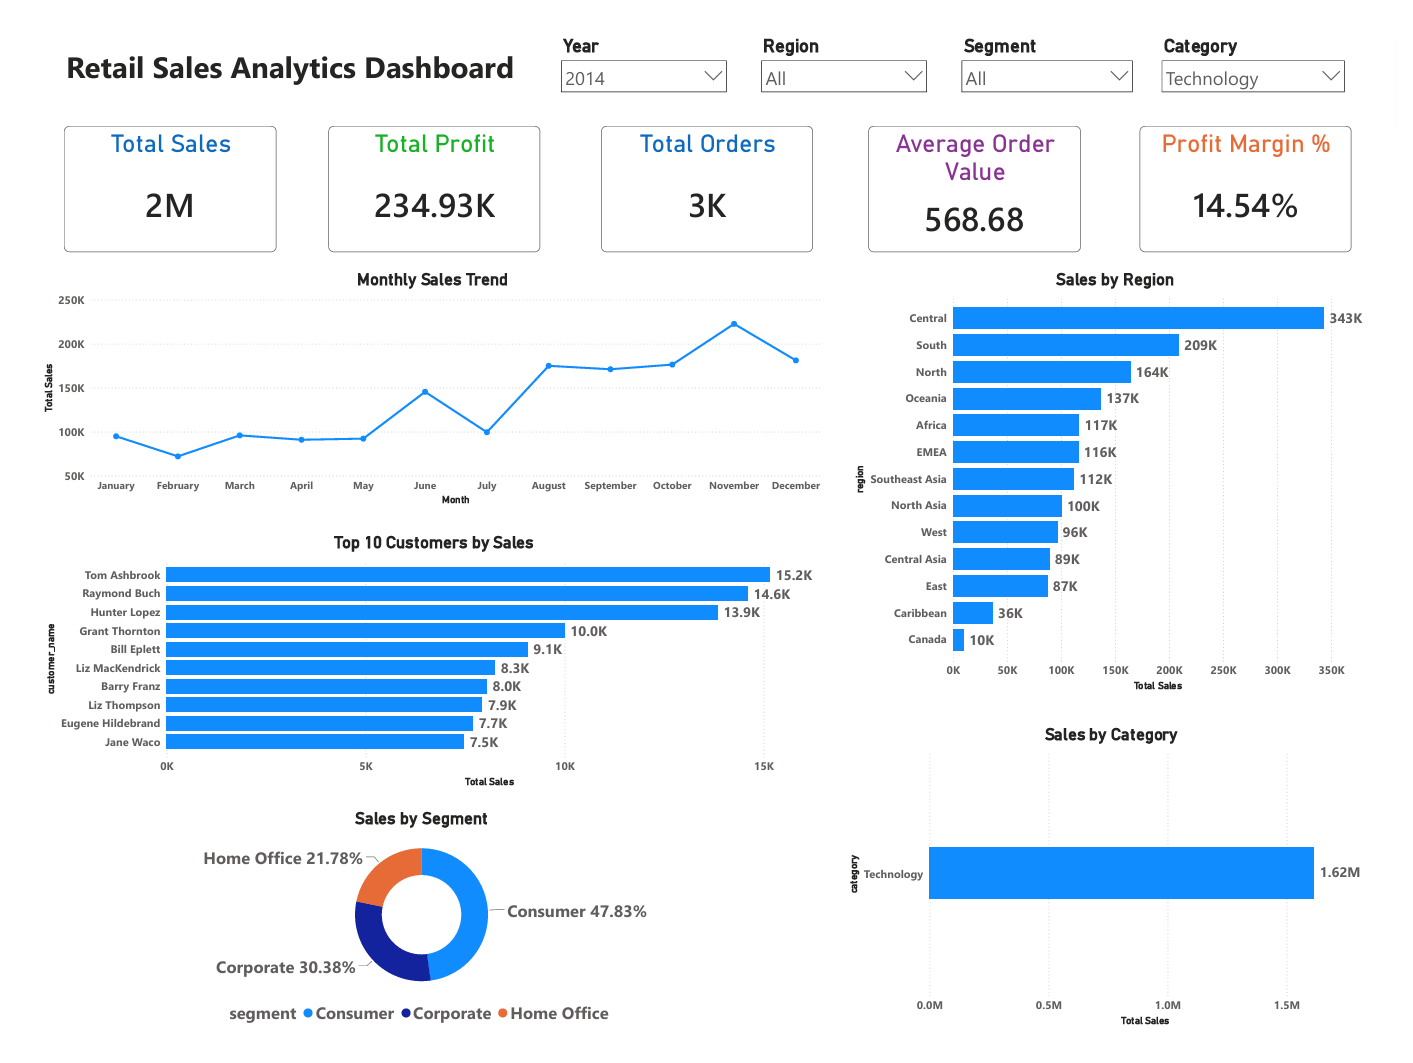

The page's visual inventory and layout, read from the dashboard file:
{"tool":"powerbi","page":{"name":"Page 1","canvas":[2000,1500],"ordinal":0},"visuals":[{"type":"cardVisual","title":"Total Sales","fields":{"Data":["superstore_cleaned.Total Sales"]},"box":[70,160,307.7,182.7],"z":0},{"type":"cardVisual","title":"Total Profit","fields":{"Data":["superstore_cleaned.Total Profit"]},"box":[452.5,160,307.7,182.7],"z":1000},{"type":"cardVisual","title":"Total Orders","fields":{"Data":["superstore_cleaned.Total Orders"]},"box":[847.5,160,307.7,182.7],"z":2000},{"type":"cardVisual","title":"Average Order Value ","fields":{"Data":["superstore_cleaned.Average Order Value"]},"box":[1235,160,307.7,182.7],"z":3000},{"type":"cardVisual","title":"Profit Margin %","fields":{"Data":["superstore_cleaned.Profit Margin %"]},"box":[1627.5,160,307.7,182.7],"z":4000},{"type":"lineChart","title":"Monthly Sales Trend","fields":{"Category":["superstore_cleaned.order_date.Variation.Date Hierarchy.Month"],"Y":["superstore_cleaned.Total Sales"]},"box":[35,367.5,1137.5,347.5],"z":5000},{"type":"clusteredBarChart","title":"Sales by Category","fields":{"Category":["superstore_cleaned.category"],"Y":["superstore_cleaned.Total Sales"]},"box":[1200,1027.5,774,442],"z":6000},{"type":"clusteredBarChart","title":"Sales by Region","fields":{"Category":["superstore_cleaned.region"],"Y":["superstore_cleaned.Total Sales"]},"box":[1210,367.5,765,617.5],"z":7000},{"type":"donutChart","title":"Sales by Segment","fields":{"Category":["superstore_cleaned.segment"],"Y":["superstore_cleaned.Total Sales"]},"box":[20,1150,1136,320],"z":8000},{"type":"clusteredBarChart","title":"Top 10 Customers by Sales","fields":{"Category":["superstore_cleaned.customer_name"],"Y":["superstore_cleaned.Total Sales"]},"box":[37.5,750,1136,374],"z":9000},{"type":"slicer","fields":{"Values":["superstore_cleaned.segment"]},"box":[1360,22.5,267.5,112.5],"z":10000},{"type":"slicer","fields":{"Values":["superstore_cleaned.region"]},"box":[1070,22.5,260,112.5],"z":11000},{"type":"slicer","fields":{"Values":["superstore_cleaned.order_date.Variation.Date Hierarchy.Year"]},"box":[780,22.5,260,112.5],"z":12000},{"type":"slicer","fields":{"Values":["superstore_cleaned.category"]},"box":[1650,22.5,285,112.5],"z":13000},{"type":"textbox","box":[35,22.5,725,112.5],"z":14000}]}

Visuals, with their boxes in screenshot pixels (x1, y1, x2, y2), scaled from the page's 2000x1500 canvas onto the 1413x1063 screenshot:
"Total Sales" cardVisual: detection(49, 113, 267, 243)
"Total Profit" cardVisual: detection(320, 113, 537, 243)
"Total Orders" cardVisual: detection(599, 113, 816, 243)
"Average Order Value " cardVisual: detection(873, 113, 1090, 243)
"Profit Margin %" cardVisual: detection(1150, 113, 1367, 243)
"Monthly Sales Trend" lineChart: detection(25, 260, 828, 507)
"Sales by Category" clusteredBarChart: detection(848, 728, 1395, 1041)
"Sales by Region" clusteredBarChart: detection(855, 260, 1395, 698)
"Sales by Segment" donutChart: detection(14, 815, 817, 1042)
"Top 10 Customers by Sales" clusteredBarChart: detection(26, 532, 829, 797)
slicer - superstore_cleaned.segment: detection(961, 16, 1150, 96)
slicer - superstore_cleaned.region: detection(756, 16, 940, 96)
slicer - superstore_cleaned.order_date.Variation.Date Hierarchy.Year: detection(551, 16, 735, 96)
slicer - superstore_cleaned.category: detection(1166, 16, 1367, 96)
textbox: detection(25, 16, 537, 96)
